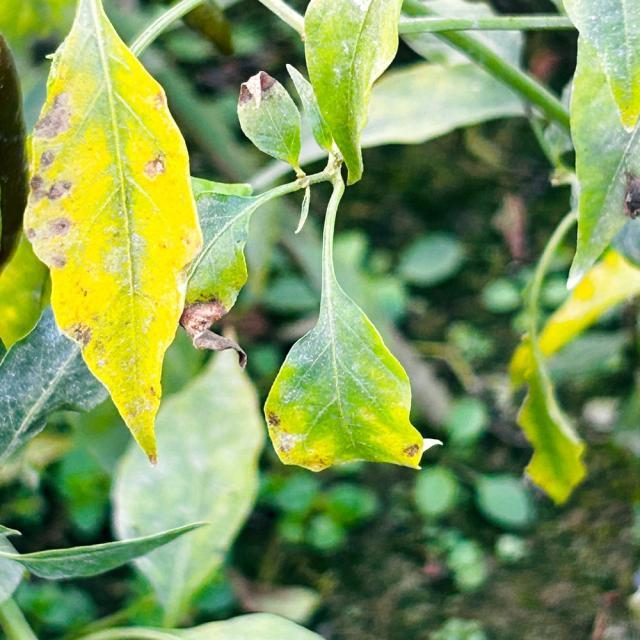Bercak Daun Serkospora: (21, 0, 204, 465)
